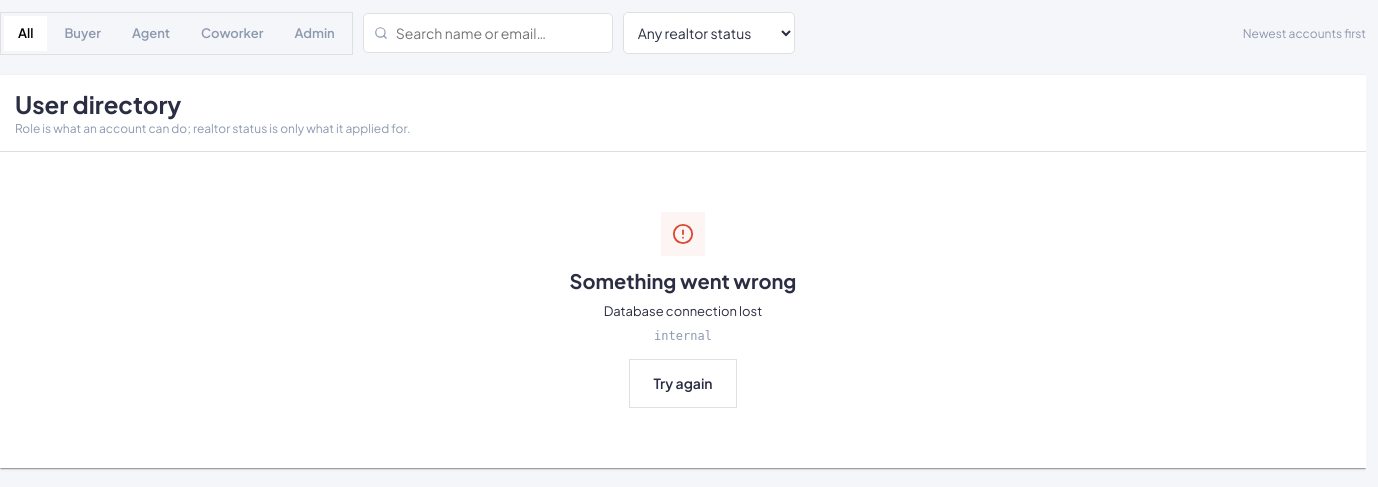
it: UsersScreen › surfaces a failed list with the API's own message and a retry
Expected: the text "Database connection lost" is shown, [604,300,762,321]
Expected: the text "internal" is shown, [654,329,712,343]
Click the button "Try again".
click(683, 384)  # box [630,359,737,408]
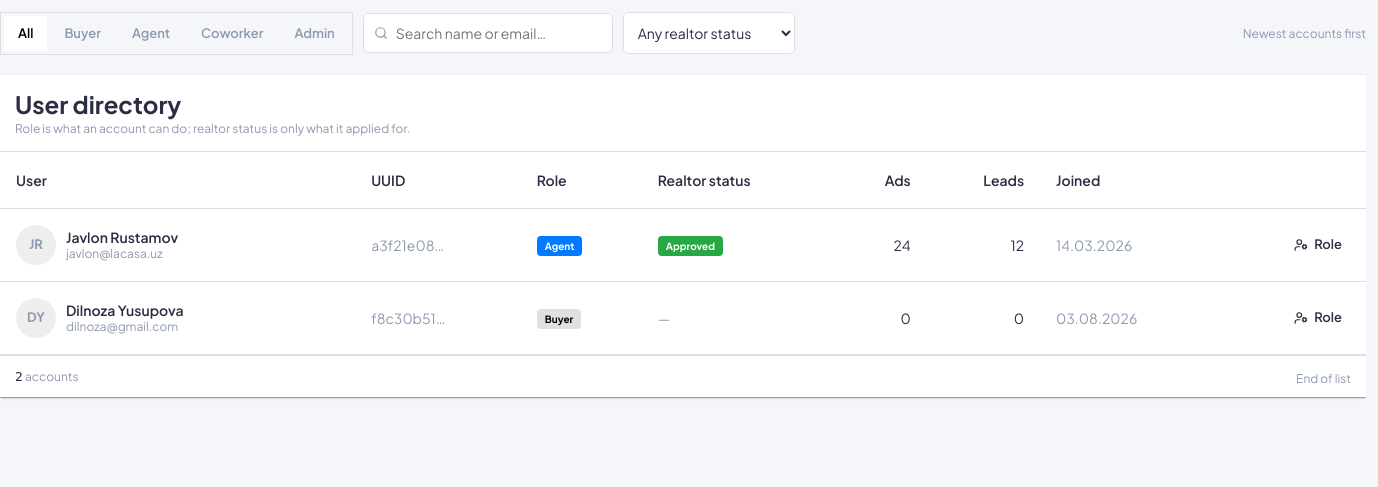
Expected: the text "Javlon Rustamov" is shown, [66,228,178,246]
